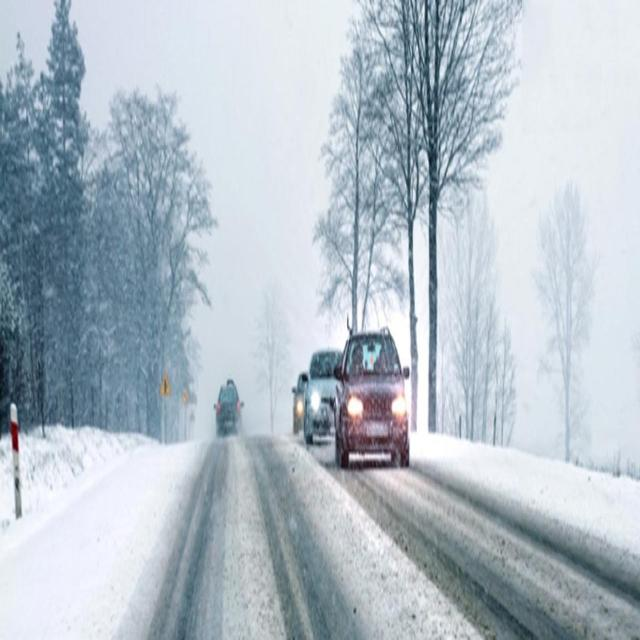Car: (335, 316, 410, 477), (304, 342, 341, 448), (214, 352, 244, 435), (290, 356, 307, 428)
